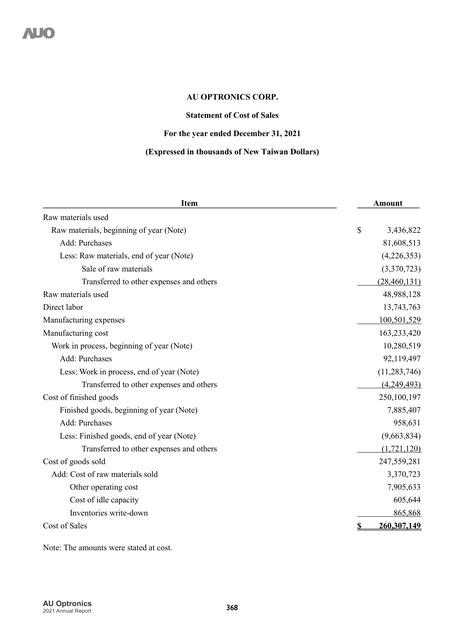box: (39, 200, 425, 533)
